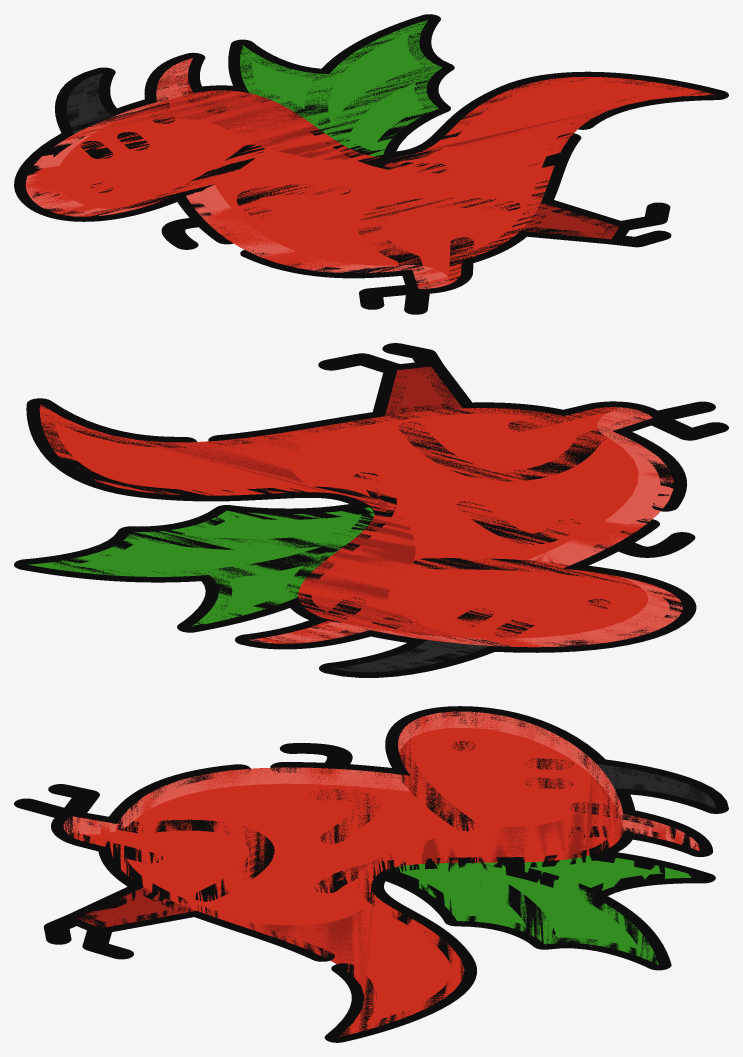
Rendered from dragon.obj.
3 renders of one model, top to bottom at view 1: azimuth 30°, elevation 25°; view 2: azimuth 150°, elevation 25°; view 3: azimuth 270°, elevation 25°, orthographic. The views are drawn at different scales.
Bounding box in the file's own units: 0.1445 × 0 × 0.1297.
